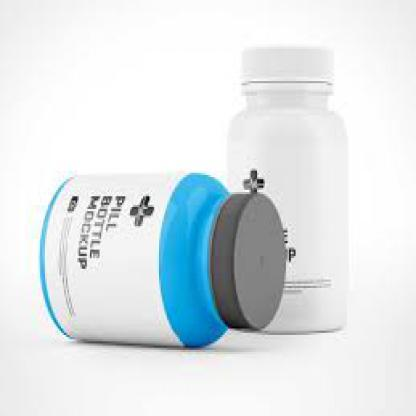jar: (38, 170, 296, 348)
